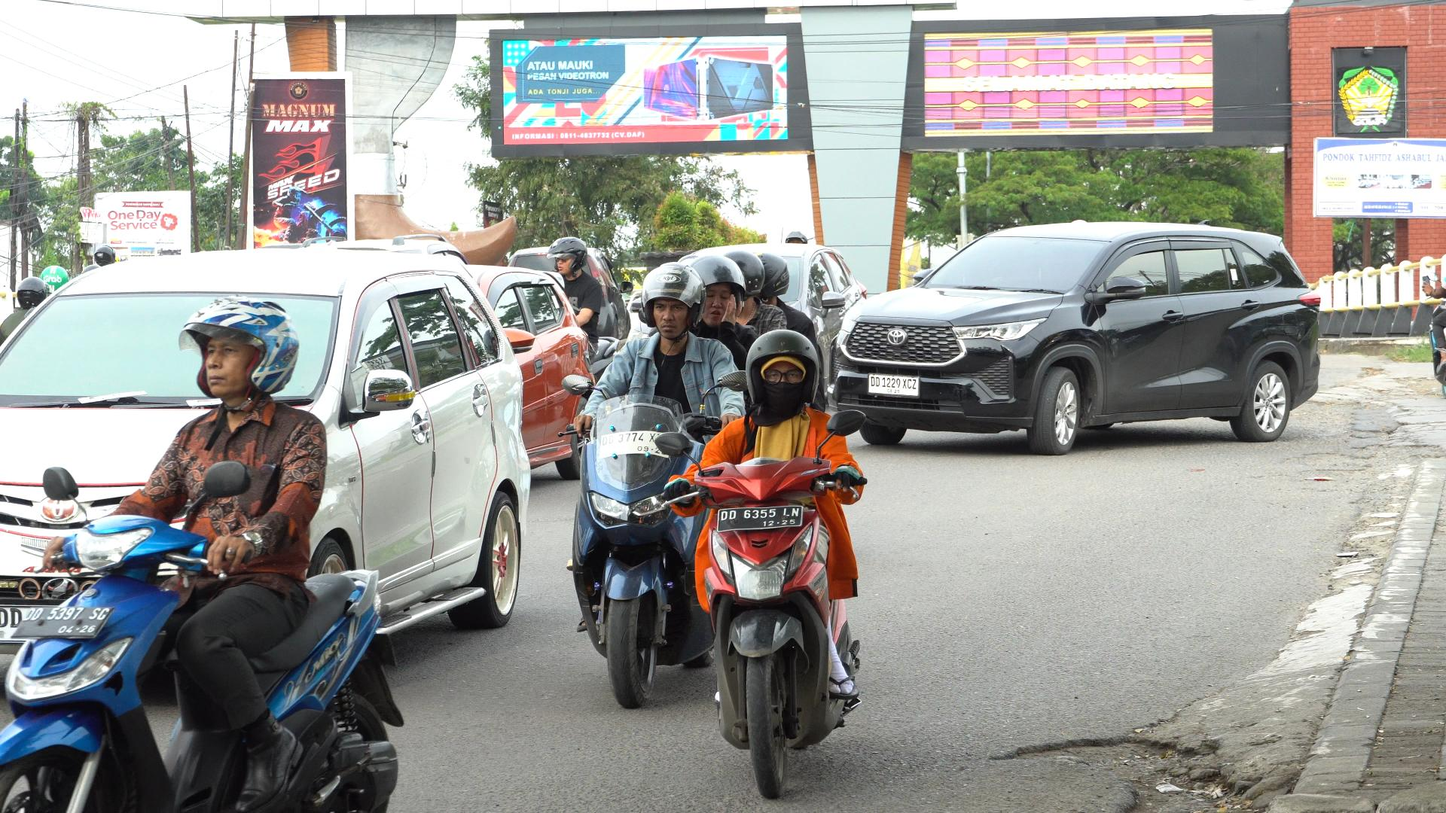number-plate: (715, 503, 801, 532), (593, 431, 673, 461)
